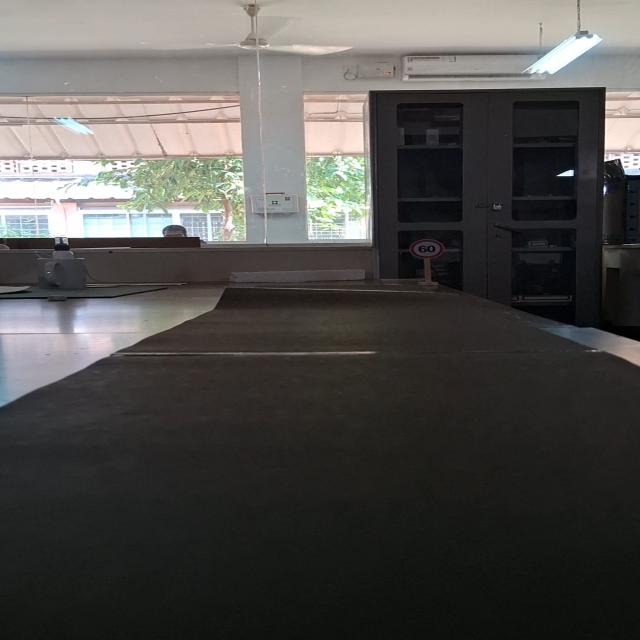Speed60: (410, 238, 445, 260)
